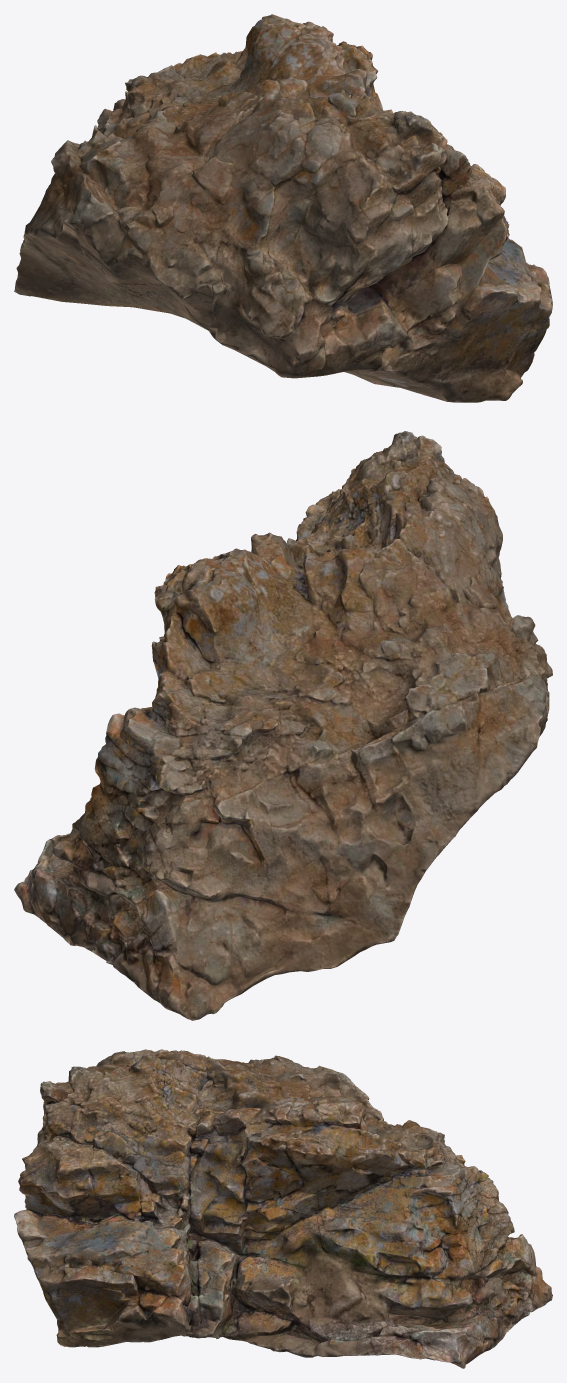
File: boulder_01.glb
3 renders of one model, top to bottom at view 1: azimuth 30°, elevation 25°; view 2: azimuth 150°, elevation 25°; view 3: azimuth 270°, elevation 25°, orthographic. The views are drawn at different scales.
Parts seen in each view (by area): view 1: boulder_01; view 2: boulder_01; view 3: boulder_01.
Part boxes in pixels (x1,y1,x2,y2): boulder_01: [14, 14, 552, 402]; boulder_01: [14, 431, 552, 1020]; boulder_01: [14, 1049, 552, 1368].
Bounding box in the file's own units: 1.27 × 1 × 1.83.
Materials: 1 (1 with a texture image).
